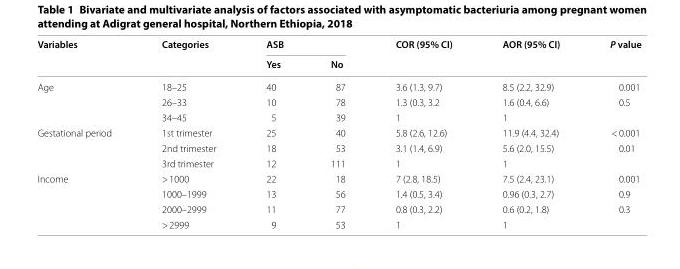table: (36, 37, 640, 229)
table column: (476, 37, 584, 229), (369, 37, 476, 229), (136, 37, 240, 229), (36, 37, 136, 229), (304, 37, 369, 229), (240, 37, 304, 229), (584, 37, 640, 229)
table column header: (36, 37, 640, 75)
table row: (36, 53, 640, 75), (36, 75, 640, 94), (36, 37, 640, 53), (36, 124, 640, 140), (36, 185, 640, 201), (36, 94, 640, 109), (36, 109, 640, 124), (36, 140, 640, 155), (36, 155, 640, 170), (36, 170, 640, 185), (36, 201, 640, 216), (36, 216, 640, 229)
table spanning cell: (36, 170, 136, 229), (36, 75, 136, 124), (36, 124, 136, 170), (476, 37, 584, 75), (369, 37, 476, 75), (136, 37, 240, 75), (36, 37, 136, 75), (584, 37, 640, 75), (240, 37, 369, 53)
